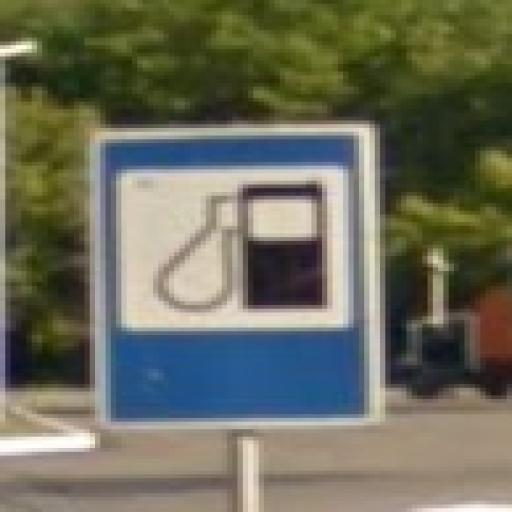traffic_sign: (91, 121, 381, 434)
